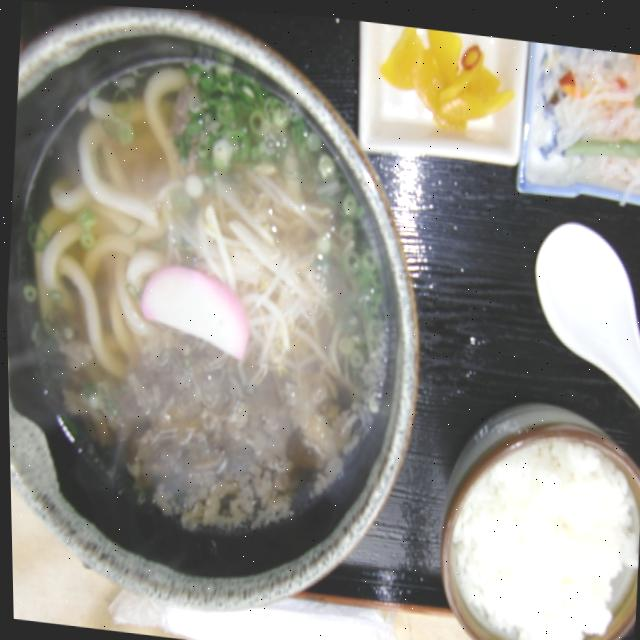米饭主食: (429, 401, 640, 640)
面条主食: (0, 7, 420, 618)
